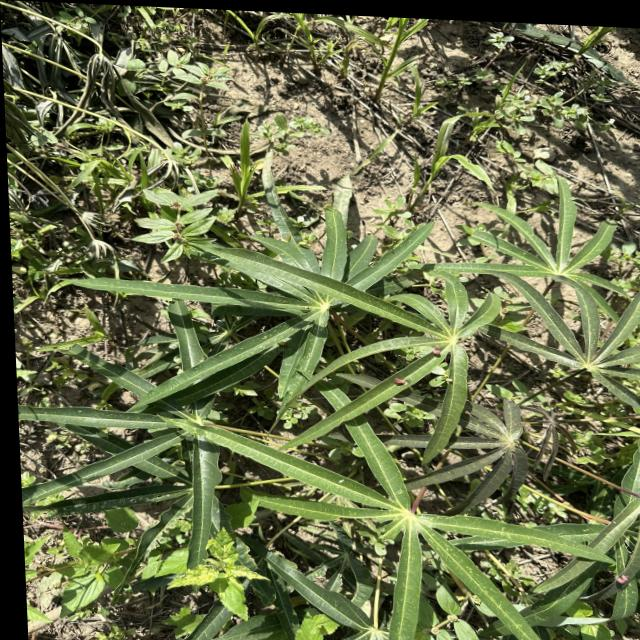Maleza: (131, 79, 226, 265), (182, 519, 262, 608)
Mosca: (391, 371, 411, 386), (430, 341, 443, 362)
